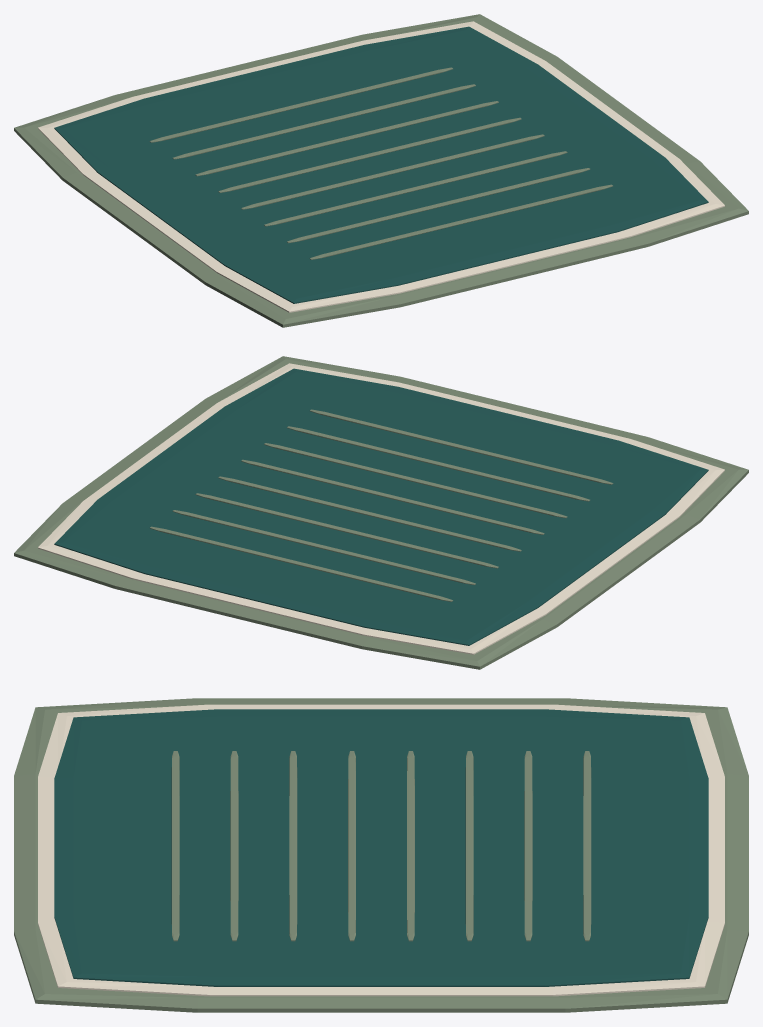
The model's file is hiperreal-hd.glb.
3 renders of one model, top to bottom at view 1: azimuth 30°, elevation 25°; view 2: azimuth 150°, elevation 25°; view 3: azimuth 270°, elevation 25°, orthographic. The views are drawn at different scales.
Visible parts, largest first — view 1: Native component 1, Native component 10, Native component 0; view 2: Native component 1, Native component 10, Native component 0; view 3: Native component 1, Native component 10, Native component 0.
Boxes of the visible parts, x1=… form: Native component 1: x1=54, y1=26, x2=708, y2=303; Native component 10: x1=14, y1=14, x2=748, y2=327; Native component 0: x1=38, y1=21, x2=724, y2=312; Native component 1: x1=54, y1=368, x2=708, y2=645; Native component 10: x1=14, y1=356, x2=748, y2=669; Native component 0: x1=38, y1=363, x2=724, y2=654; Native component 1: x1=54, y1=709, x2=708, y2=986; Native component 10: x1=14, y1=698, x2=748, y2=1012; Native component 0: x1=38, y1=704, x2=724, y2=996.
Size of the model in its own units: 2 by 0.0425 by 2.
